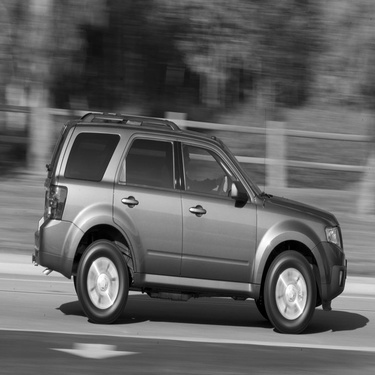car: (24, 103, 344, 326)
